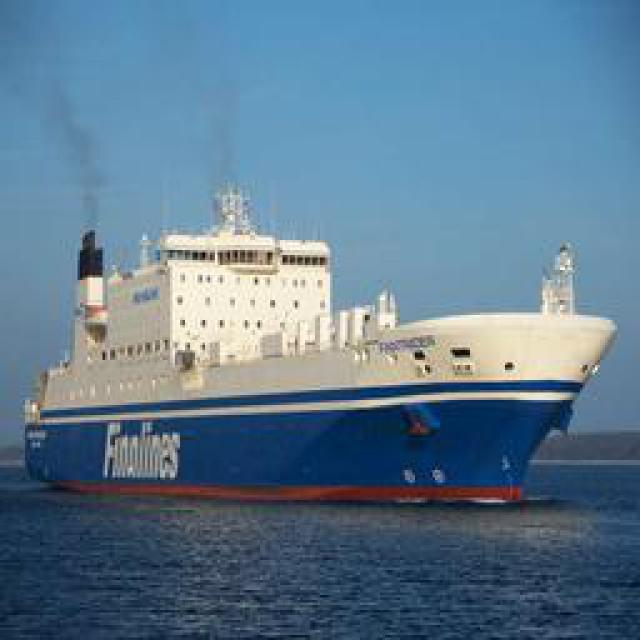Ship: (21, 182, 614, 502)
